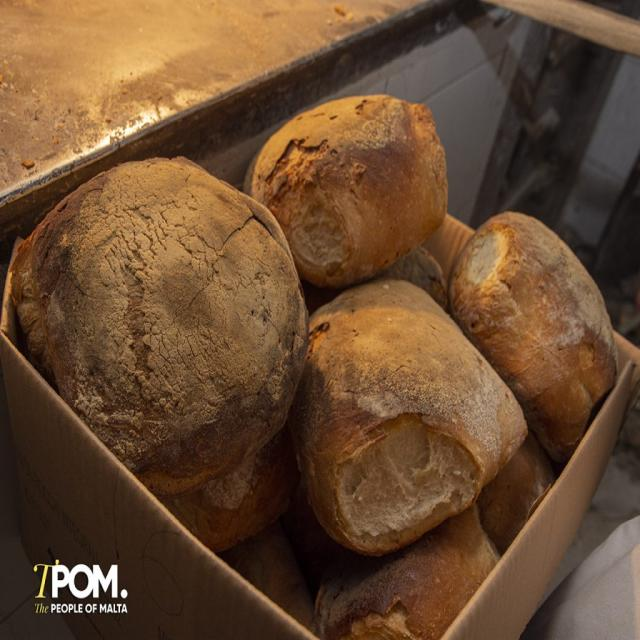Maltese-Bread: (8, 158, 307, 494), (291, 278, 526, 554), (448, 212, 618, 465), (242, 94, 448, 288)
